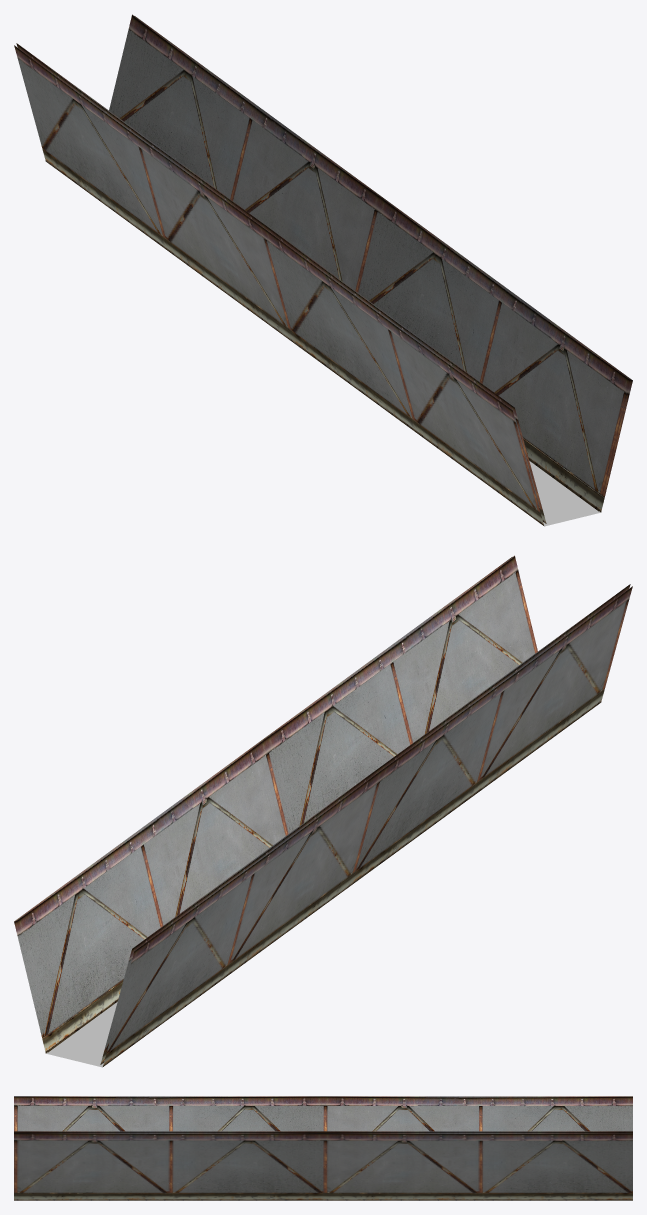
The model's file is Girders_5mts.fbx.
The picture shows the model from 3 angles, top to bottom: view 1: azimuth 30°, elevation 25°; view 2: azimuth 150°, elevation 25°; view 3: azimuth 270°, elevation 25°; orthographic projection. The views are drawn at different scales.
Parts seen in each view (by area): view 1: girder (×4), solid bar; view 2: girder (×4), solid bar; view 3: girder (×3).
Part boxes in pixels (x1,y1,x2,y2): girder (×4): [14, 14, 632, 525]; solid bar: [529, 461, 600, 526]; girder (×4): [14, 555, 632, 1066]; solid bar: [46, 1002, 117, 1067]; girder (×3): [14, 1096, 632, 1200].
Bounding box in the file's own units: 139 × 140 × 1000.
